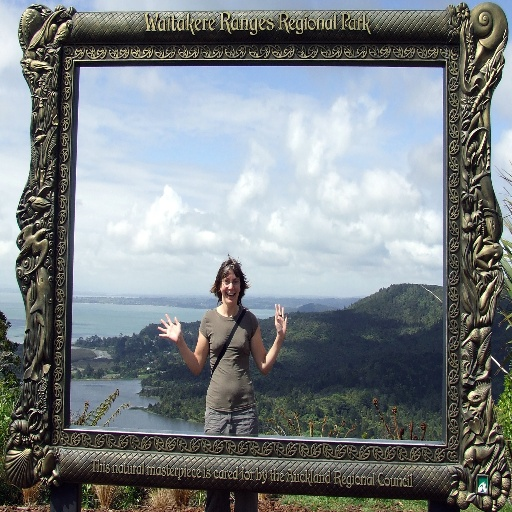hand: (152, 314, 189, 384), (156, 312, 181, 344), (273, 302, 287, 335)
